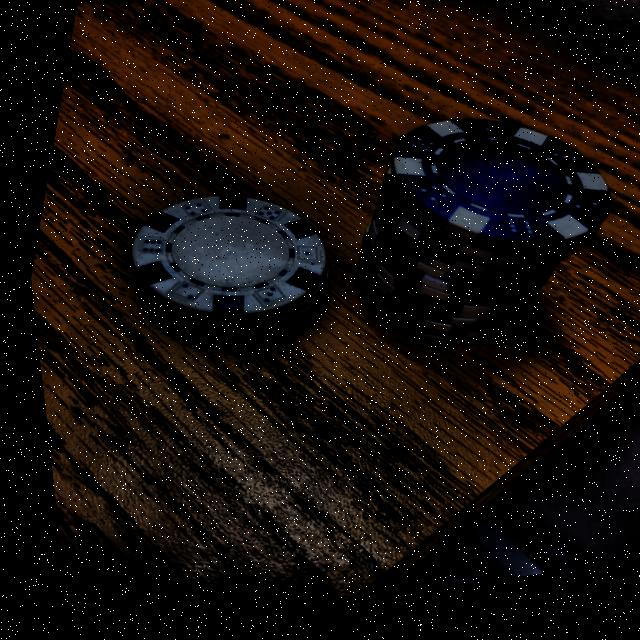Chip: (288, 82, 640, 425), (87, 138, 364, 409)
